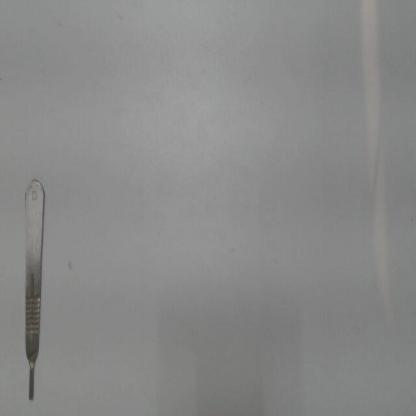No.3 BP Handle: (20, 175, 52, 407)
